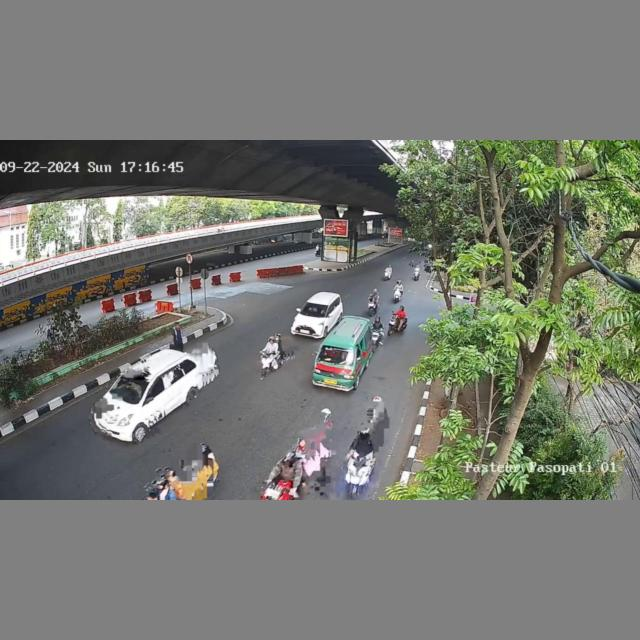windshield: (318, 346, 355, 365), (300, 300, 329, 317)
